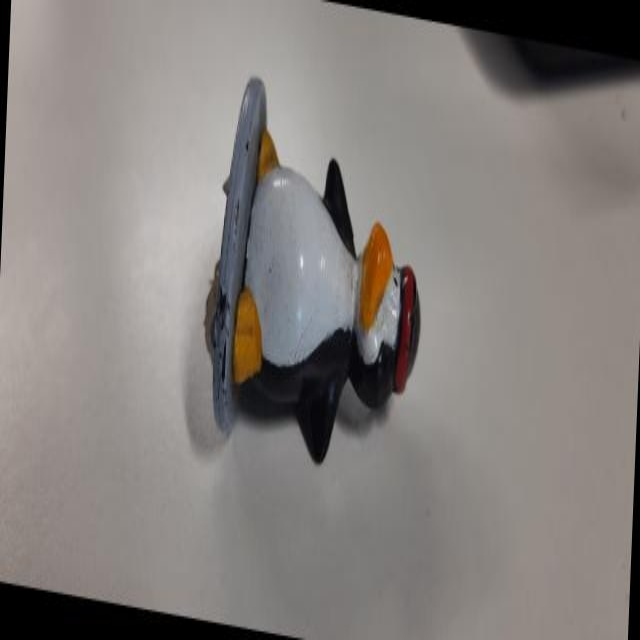Penguin: (191, 51, 439, 494)
